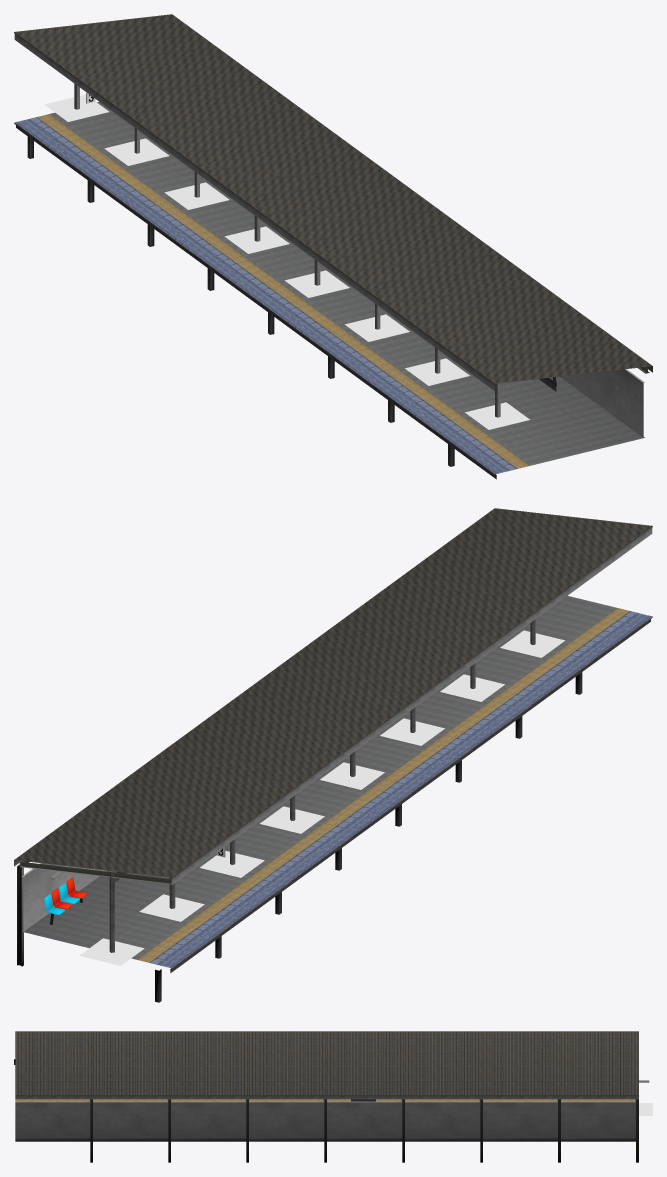
Rendered from KIN_ST00_L8.glb.
3 views of the same model, one above another, from view 1: azimuth 30°, elevation 25°; view 2: azimuth 150°, elevation 25°; view 3: azimuth 270°, elevation 25° (orthographic). The views are drawn at different scales.
Visible parts, largest first — view 1: HOME, J07, NO, J06, J04, ST, J02, J05, Bone; view 2: HOME, Bone, NO, J05, J04, J07, ST, J06, J02; view 3: HOME, Bone.
Part boxes in pixels (<box>): HOME: <box>14,14,652,479</box>; J07: <box>465,378,556,429</box>; NO: <box>86,93,169,165</box>; J06: <box>405,347,556,386</box>; J04: <box>284,259,349,297</box>; ST: <box>224,216,289,253</box>; J02: <box>164,172,229,209</box>; J05: <box>345,304,409,341</box>; Bone: <box>44,83,109,121</box>; HOME: <box>14,508,652,1002</box>; Bone: <box>44,866,144,965</box>; NO: <box>139,847,225,921</box>; J05: <box>380,707,444,745</box>; J04: <box>320,751,384,789</box>; J07: <box>500,619,565,657</box>; ST: <box>260,795,324,833</box>; J06: <box>440,663,504,701</box>; J02: <box>199,839,264,877</box>; HOME: <box>15,1031,638,1162</box>; Bone: <box>635,1080,652,1115</box>.
Bounding box in the file's own units: 19.01 × 14.73 × 102.
Materials: 57 (49 with a texture image).
